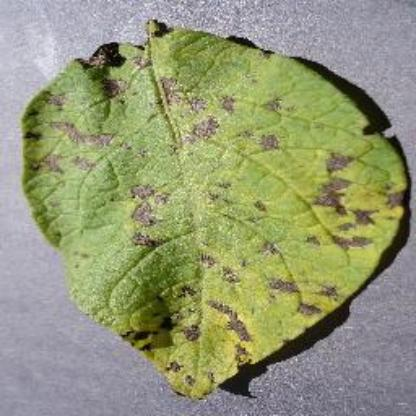Early-Blight: (21, 17, 416, 396)
